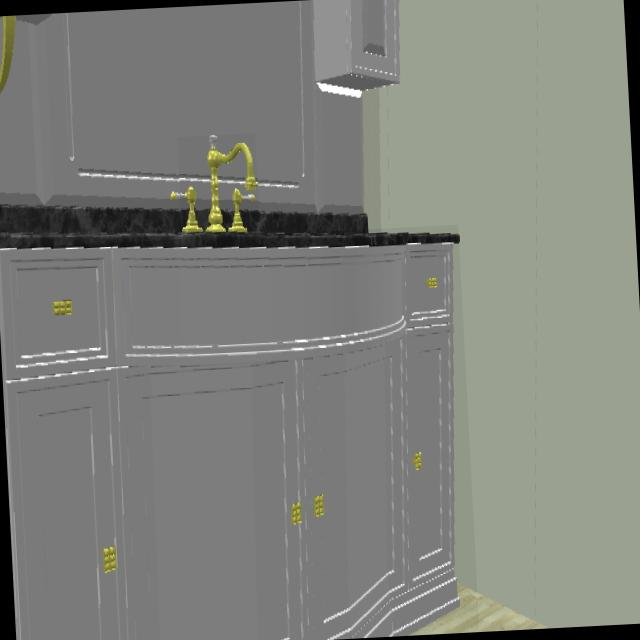cabinet: (0, 235, 466, 640)
washbasin: (182, 136, 258, 239)
